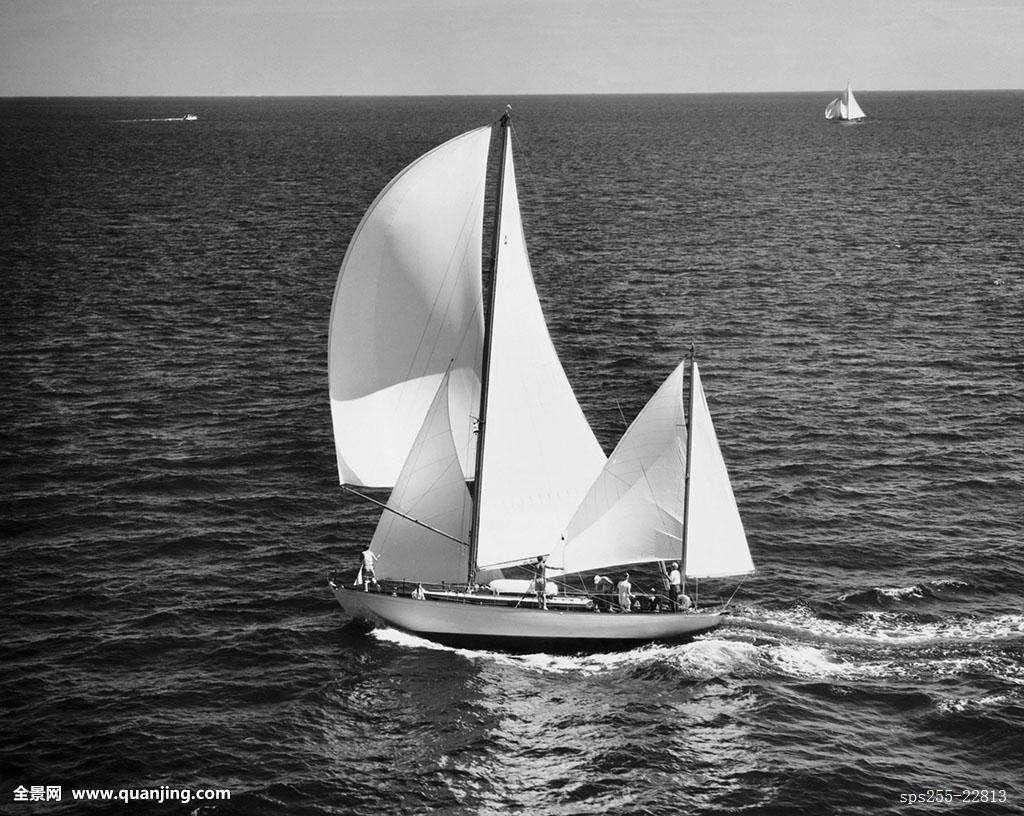fanchuan: (317, 101, 760, 657), (816, 76, 875, 126)
